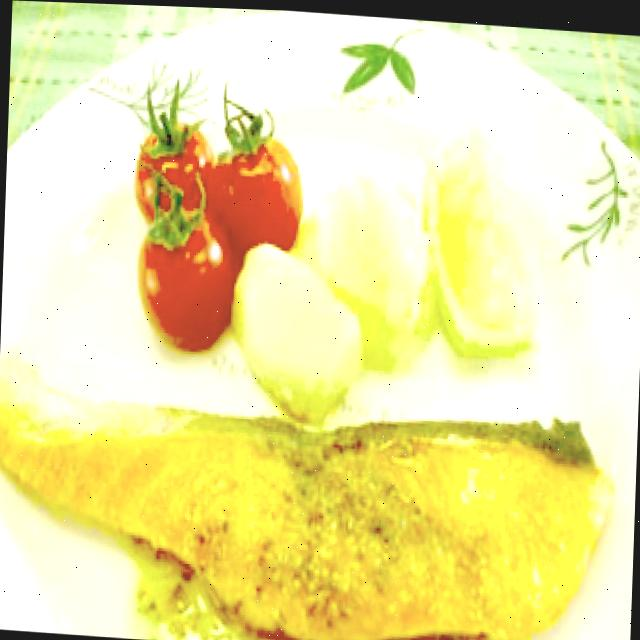熟制海鲜: (0, 355, 613, 640)
